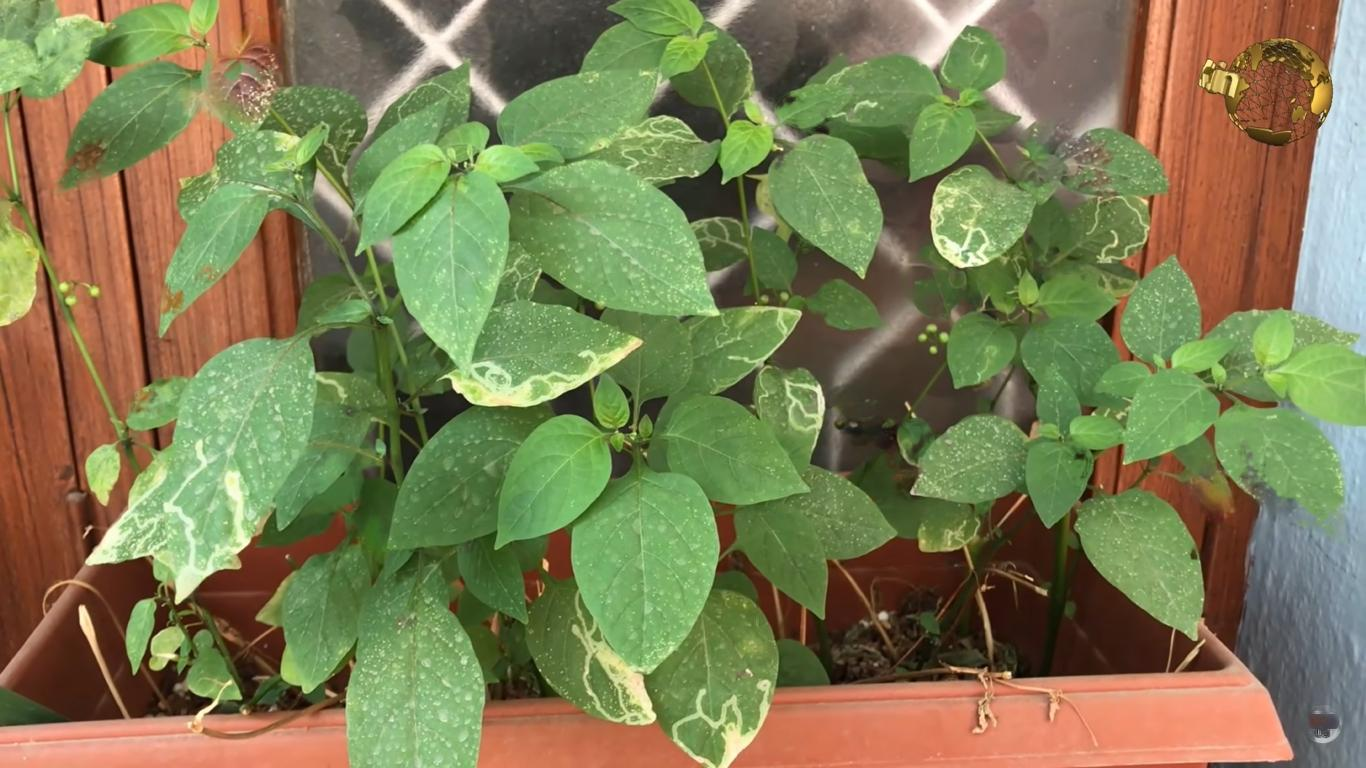Healthy: (495, 413, 611, 548), (1287, 342, 1366, 427)
Leaf_Miner: (168, 334, 317, 607), (641, 590, 779, 768), (442, 297, 642, 409), (522, 574, 657, 726), (928, 162, 1036, 270), (681, 304, 802, 395), (265, 85, 366, 191), (825, 52, 941, 129), (84, 461, 168, 567), (597, 115, 721, 183), (672, 18, 755, 118), (753, 364, 825, 476), (374, 58, 472, 140), (1058, 193, 1152, 268), (948, 309, 1015, 391), (938, 25, 1006, 92), (919, 498, 981, 558), (688, 215, 751, 272), (496, 252, 544, 303), (315, 369, 353, 411)
